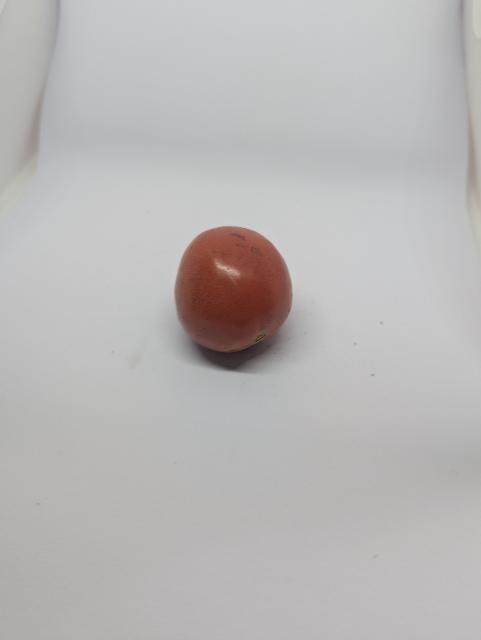red: (160, 217, 322, 390)
